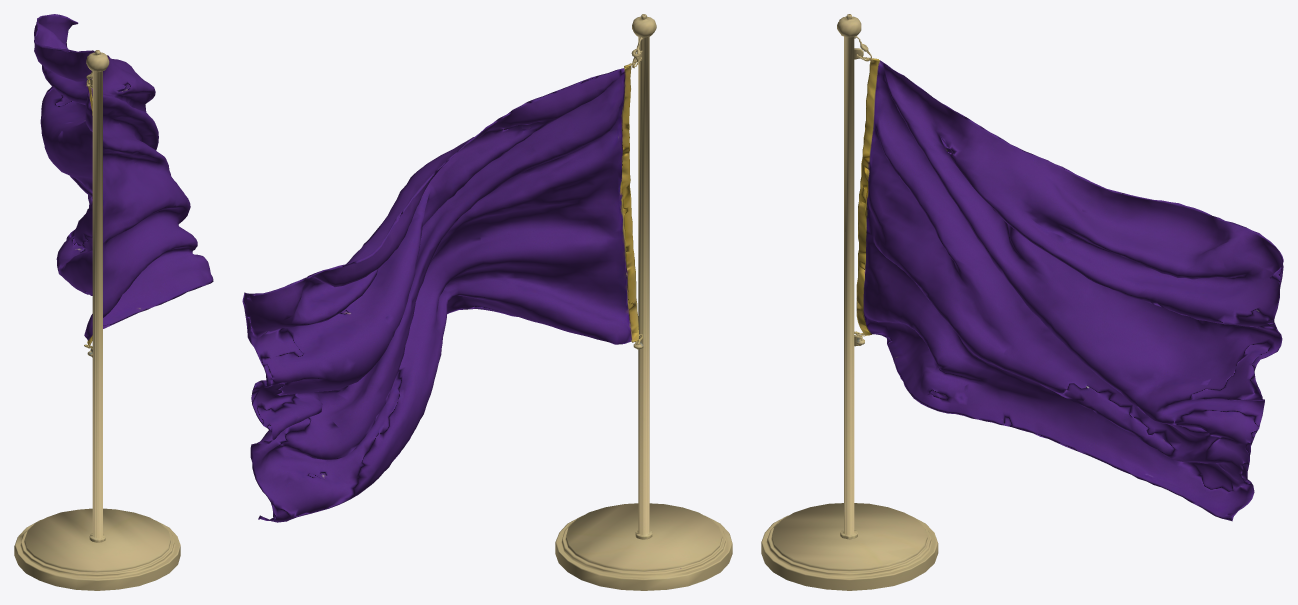
File: r33-flag.glb
3 views of the same model, side by side, from view 1: azimuth 30°, elevation 25°; view 2: azimuth 150°, elevation 25°; view 3: azimuth 270°, elevation 25° (orthographic). The views are drawn at different scales.
Visible parts, largest first — view 1: tripo_node_8f39415e-6837-4804-b2a0-0e4802e87b0b; view 2: tripo_node_8f39415e-6837-4804-b2a0-0e4802e87b0b; view 3: tripo_node_8f39415e-6837-4804-b2a0-0e4802e87b0b.
Boxes of the visible parts, box(x1,y1,x2,y2) form: tripo_node_8f39415e-6837-4804-b2a0-0e4802e87b0b: box(14, 14, 213, 590); tripo_node_8f39415e-6837-4804-b2a0-0e4802e87b0b: box(242, 14, 732, 590); tripo_node_8f39415e-6837-4804-b2a0-0e4802e87b0b: box(761, 14, 1283, 590).
Size of the model in its own units: 0.5254 by 0.998 by 0.877.
Materials: 1 (1 with a texture image).
